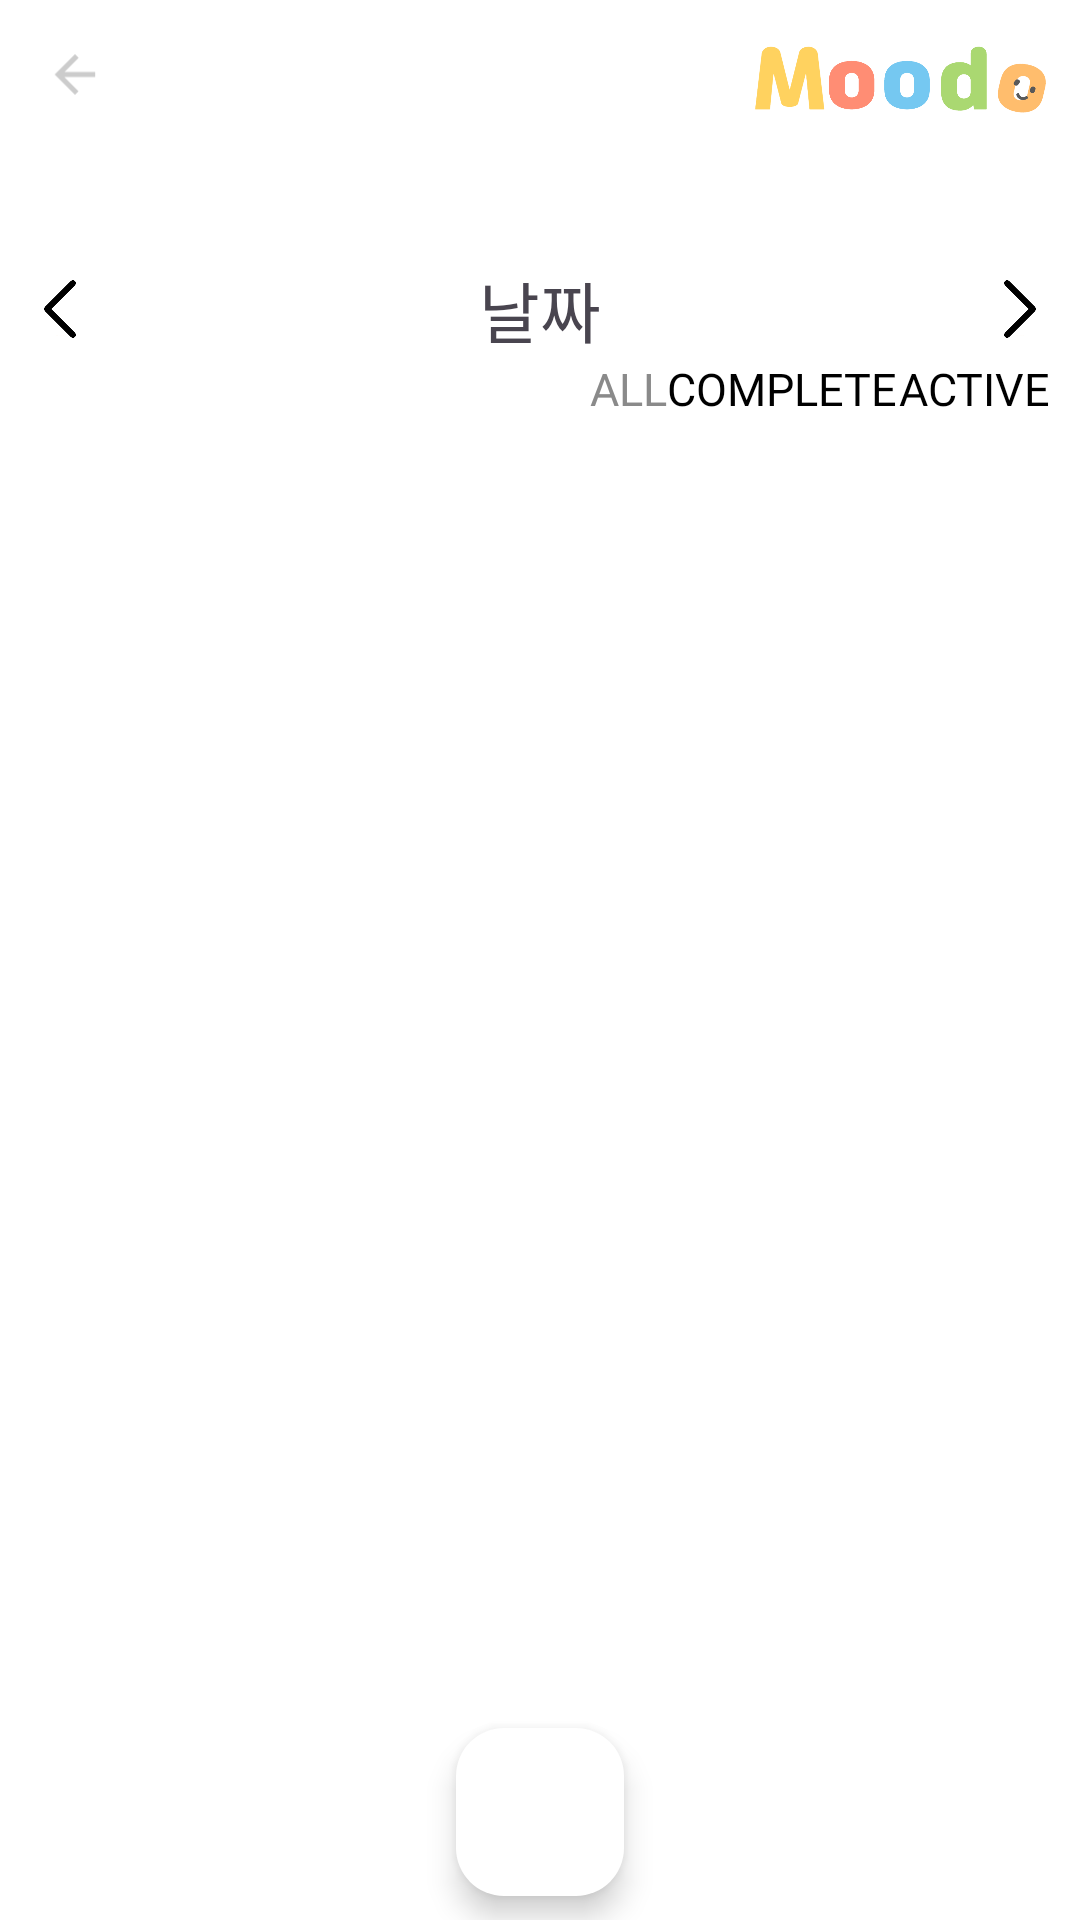

Locate icon controls on the screen. Image size 1080×1920, boxes as (x1, y1, x2, y2).
back: (55, 55, 95, 94)
before: (44, 280, 76, 338)
next: (1004, 280, 1036, 338)
